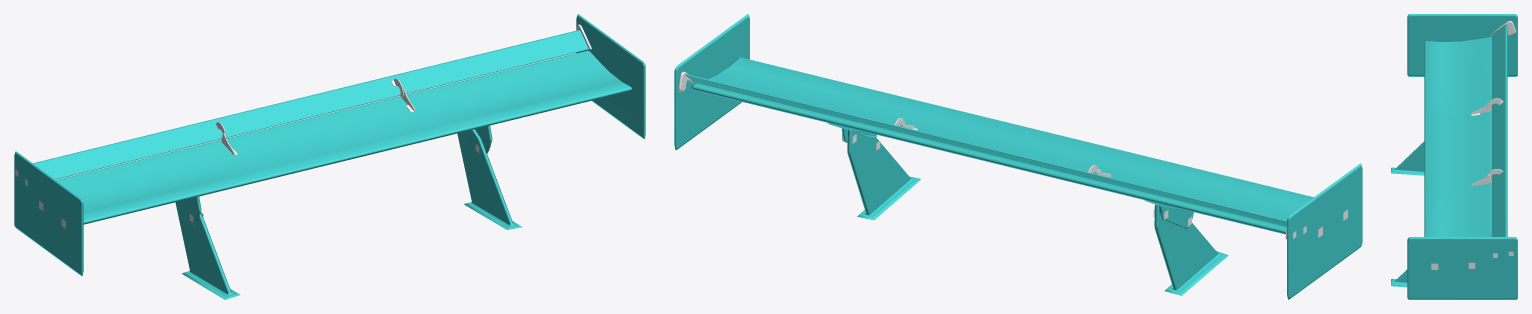
File: Car_Nissan_SkylineGTRVspecR34_1999_Spoiler_SetDD.fbx
3 renders of one model, left to right at view 1: azimuth 30°, elevation 25°; view 2: azimuth 150°, elevation 25°; view 3: azimuth 270°, elevation 25°, orthographic. The views are drawn at different scales.
Visible parts, largest first — view 1: Spoiler 6; view 2: Spoiler 6; view 3: Spoiler 6.
Part boxes in pixels (left/top/right/bottom): Spoiler 6: left=14, top=14, right=645, bottom=299; Spoiler 6: left=674, top=14, right=1362, bottom=299; Spoiler 6: left=1391, top=14, right=1517, bottom=299.
Bounding box in the file's own units: 1.65 × 0.363 × 0.3931.
